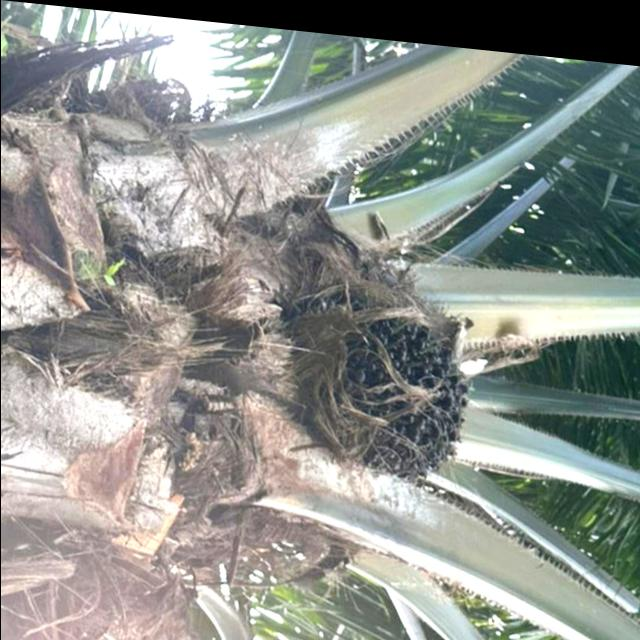unripe: (300, 276, 476, 486)
